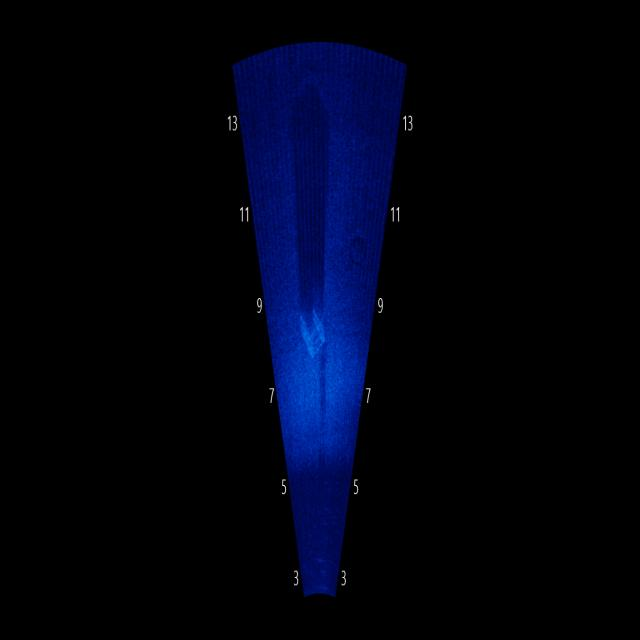square: (288, 294, 346, 374)
